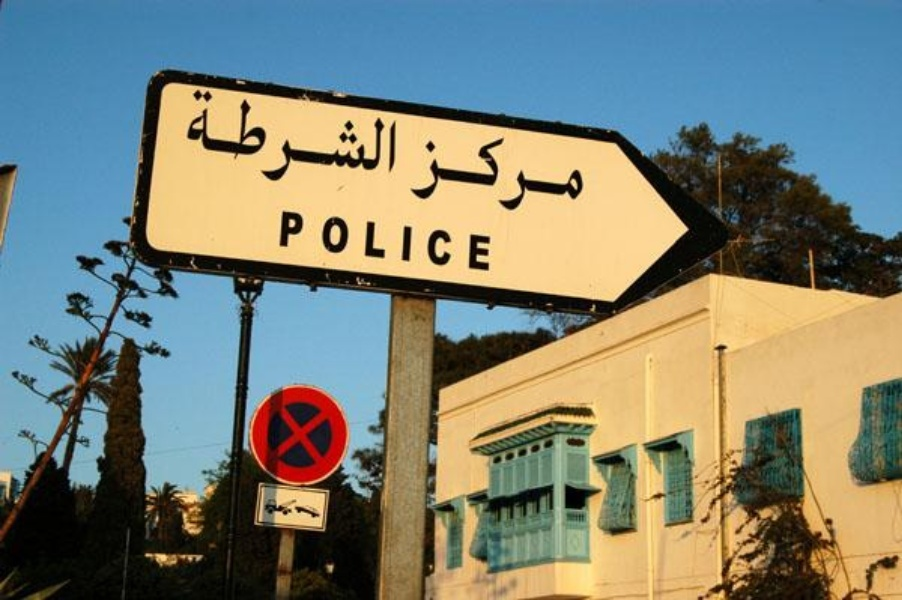text: (193, 88, 208, 194), (209, 88, 224, 194), (225, 88, 240, 194), (241, 88, 256, 194), (257, 88, 272, 194), (273, 88, 288, 194), (289, 88, 304, 194), (305, 88, 320, 194), (321, 88, 336, 194), (337, 88, 352, 194), (353, 88, 368, 194), (369, 88, 384, 194), (385, 88, 400, 194), (417, 130, 432, 217), (433, 130, 448, 217), (449, 130, 464, 217), (465, 130, 480, 217), (481, 130, 496, 217), (497, 130, 512, 217), (513, 130, 528, 217), (529, 130, 544, 217), (545, 130, 560, 217), (561, 130, 576, 217), (182, 88, 192, 194), (289, 208, 304, 273), (305, 208, 320, 273), (321, 208, 336, 273), (337, 208, 352, 273), (353, 208, 368, 273), (369, 208, 384, 273), (385, 208, 400, 273), (401, 208, 416, 273), (417, 208, 432, 273), (433, 208, 448, 273), (449, 208, 464, 273), (465, 208, 480, 273), (577, 130, 588, 217), (481, 208, 492, 273), (280, 208, 288, 273), (412, 130, 416, 217), (401, 88, 402, 194)
